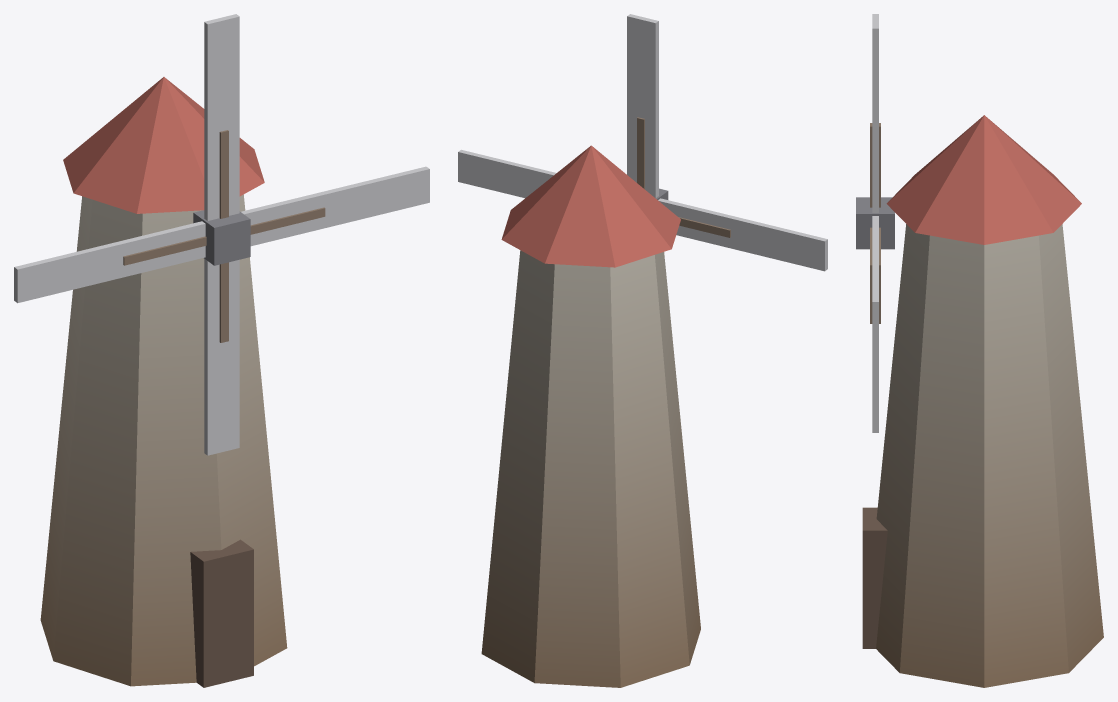
File: windmill.glb
3 renders of one model, left to right at view 1: azimuth 30°, elevation 25°; view 2: azimuth 150°, elevation 25°; view 3: azimuth 270°, elevation 25°, orthographic. The views are drawn at different scales.
Visible parts, largest first — view 1: Tower, Blades, Roof; view 2: Tower, Roof, Blades; view 3: Tower, Roof, Blades.
Part boxes in pixels (left/top/right/bottom): Tower: left=40, top=194, right=287, bottom=687; Blades: left=14, top=14, right=429, bottom=455; Roof: left=63, top=77, right=264, bottom=213; Tower: left=481, top=250, right=700, bottom=687; Roof: left=501, top=145, right=680, bottom=267; Blades: left=458, top=14, right=827, bottom=271; Tower: left=862, top=224, right=1103, bottom=687; Roof: left=886, top=115, right=1081, bottom=244; Blades: left=856, top=14, right=894, bottom=432.
Bounding box in the file's own units: 2.05 × 3.12 × 1.14.
